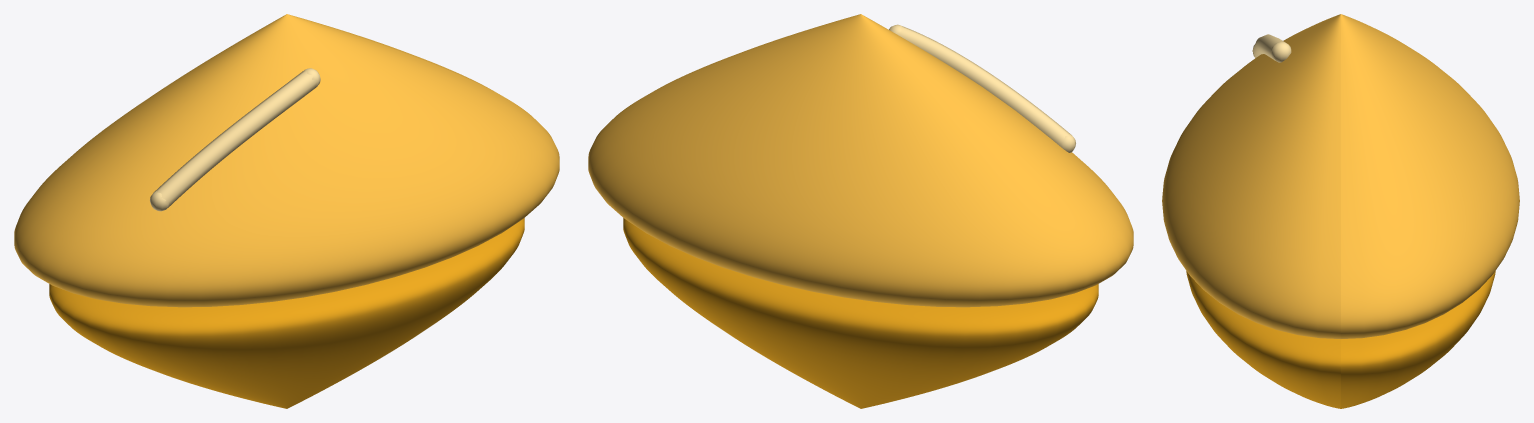
The model's file is beak.glb.
3 renders of one model, left to right at view 1: azimuth 30°, elevation 25°; view 2: azimuth 150°, elevation 25°; view 3: azimuth 270°, elevation 25°, orthographic.
Parts seen in each view (by area): view 1: beak_-100_solid, beak_-101_solid, beak_-102_line; view 2: beak_-100_solid, beak_-101_solid, beak_-102_line; view 3: beak_-100_solid, beak_-101_solid, beak_-102_line.
Boxes of the visible parts, x1=… form: beak_-100_solid: x1=14, y1=14, x2=559, y2=307; beak_-101_solid: x1=49, y1=218, x2=524, y2=408; beak_-102_line: x1=150, y1=68, x2=320, y2=211; beak_-100_solid: x1=588, y1=14, x2=1133, y2=307; beak_-101_solid: x1=623, y1=218, x2=1098, y2=408; beak_-102_line: x1=889, y1=24, x2=1075, y2=152; beak_-100_solid: x1=1162, y1=14, x2=1519, y2=338; beak_-101_solid: x1=1186, y1=271, x2=1495, y2=408; beak_-102_line: x1=1252, y1=34, x2=1291, y2=62.
Size of the model in its own units: 0.312 by 0.228 by 0.1872.
